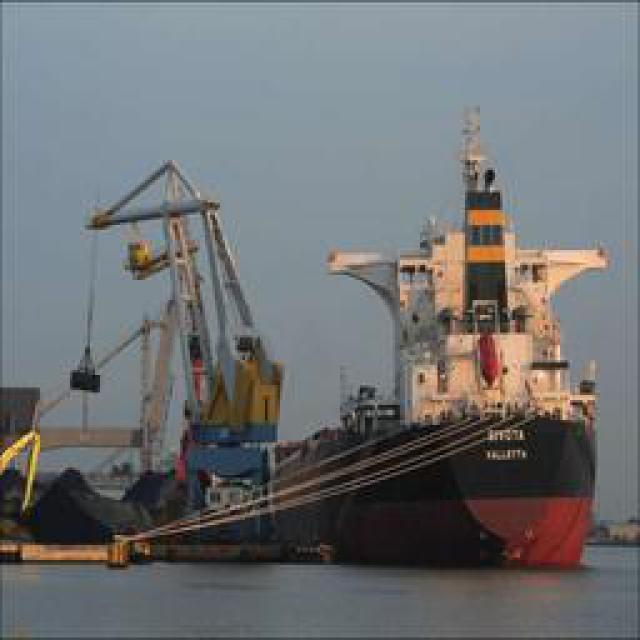Ship: (32, 115, 590, 563)
